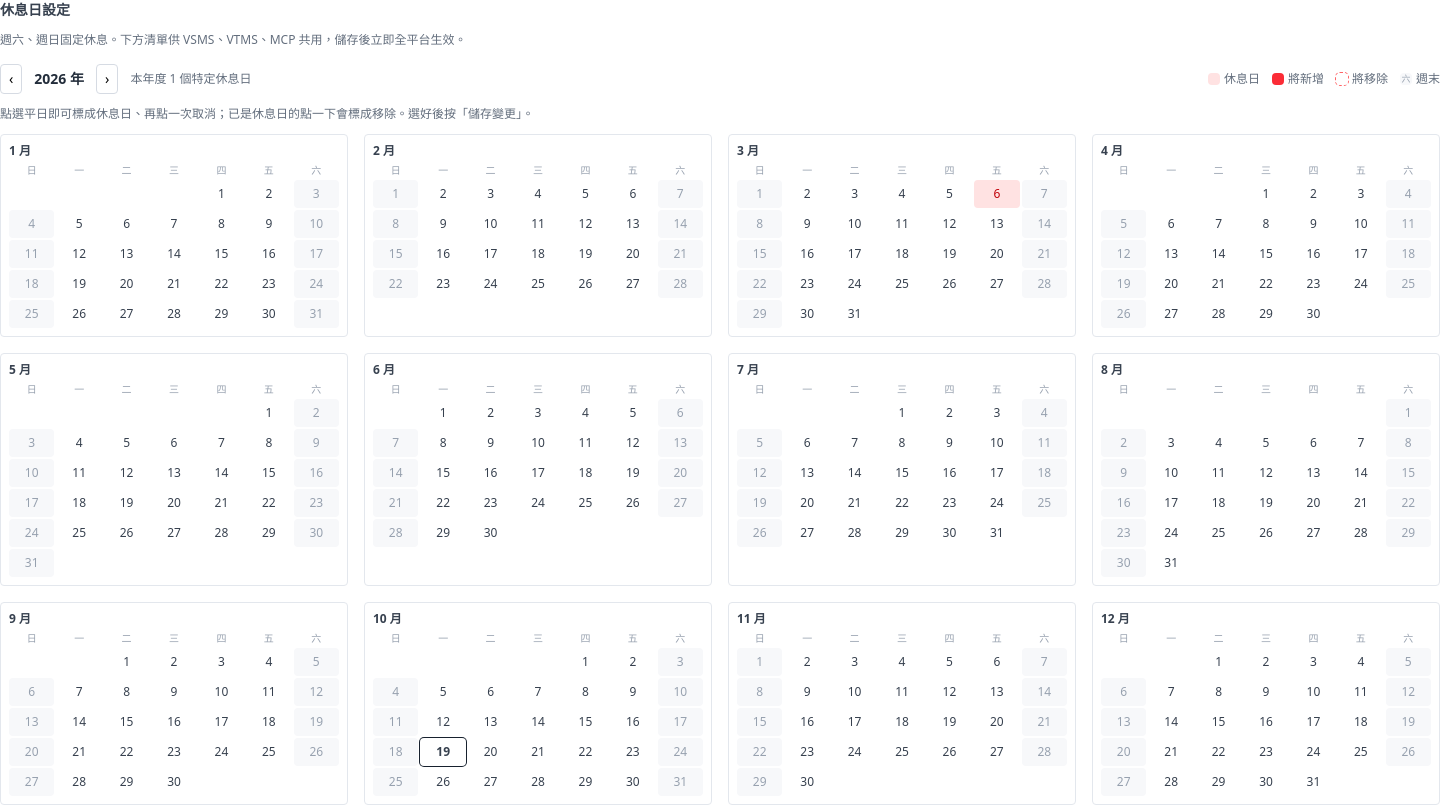
Test case: RestDaysManager 年度日曆 › 點兩個平日、取消一個已存在的休息日，一次送出 batch 並用回應更新清單
Click the 3rd button "1".
click(269, 413)  # box [246,399,292,427]
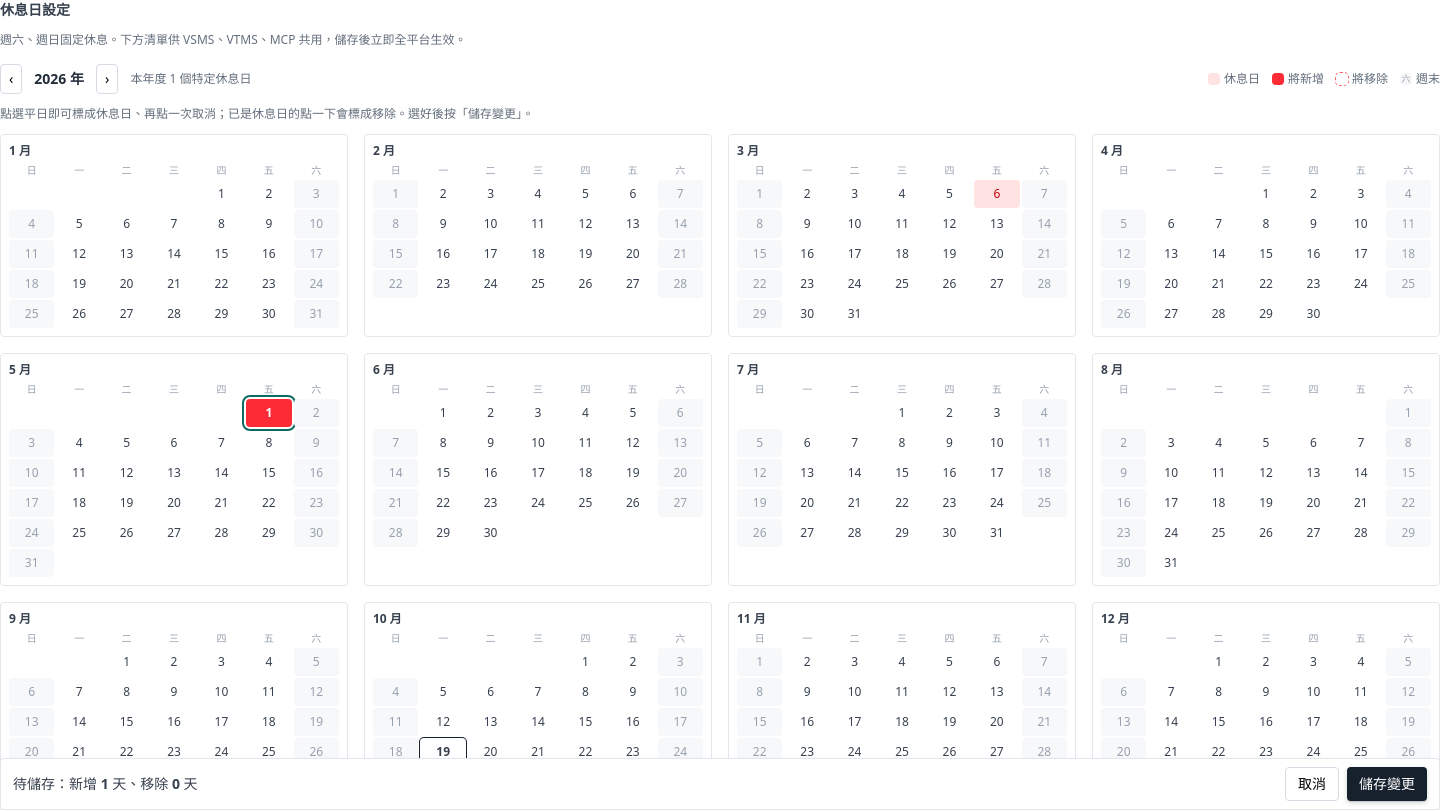
Click the 4th button "4".
click(79, 443)  # box [56,429,102,457]
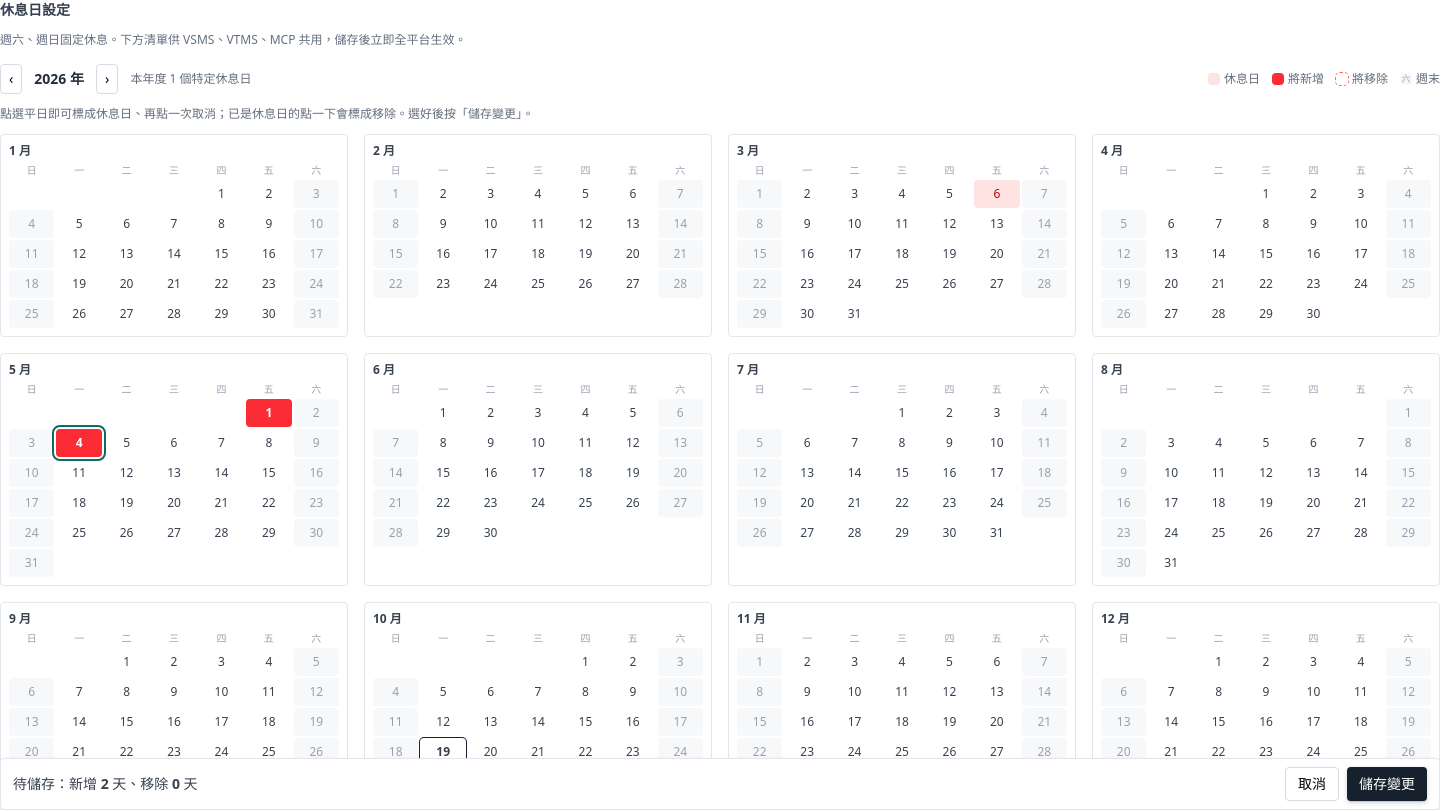
Click the 2nd button "6".
click(997, 194)  # box [974,180,1020,208]
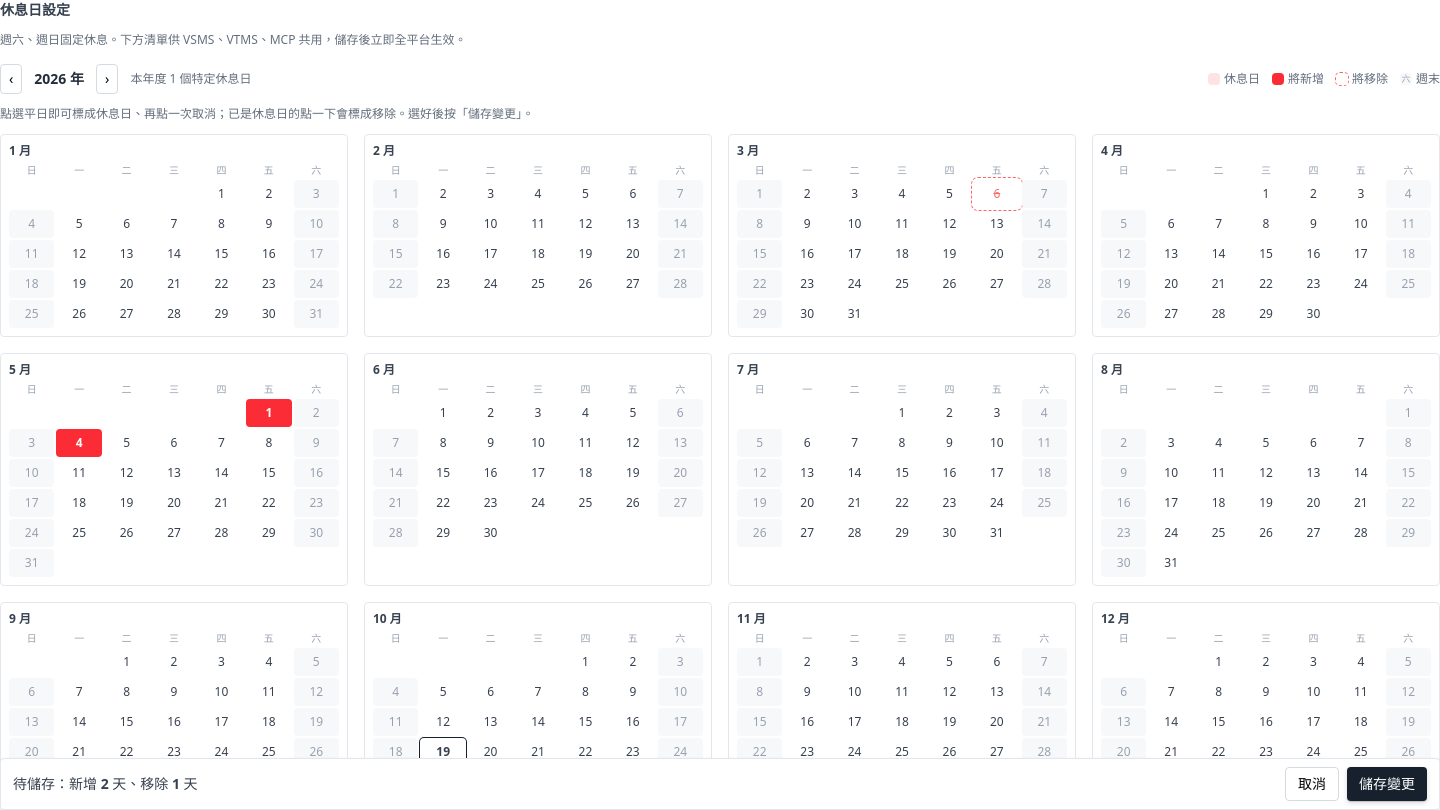
expect the text "待儲存：新增 2 天、移除 1 天" is shown: met, box [13,774,198,794]
Click the button "儲存變更".
click(1387, 784)  # box [1347,767,1427,801]
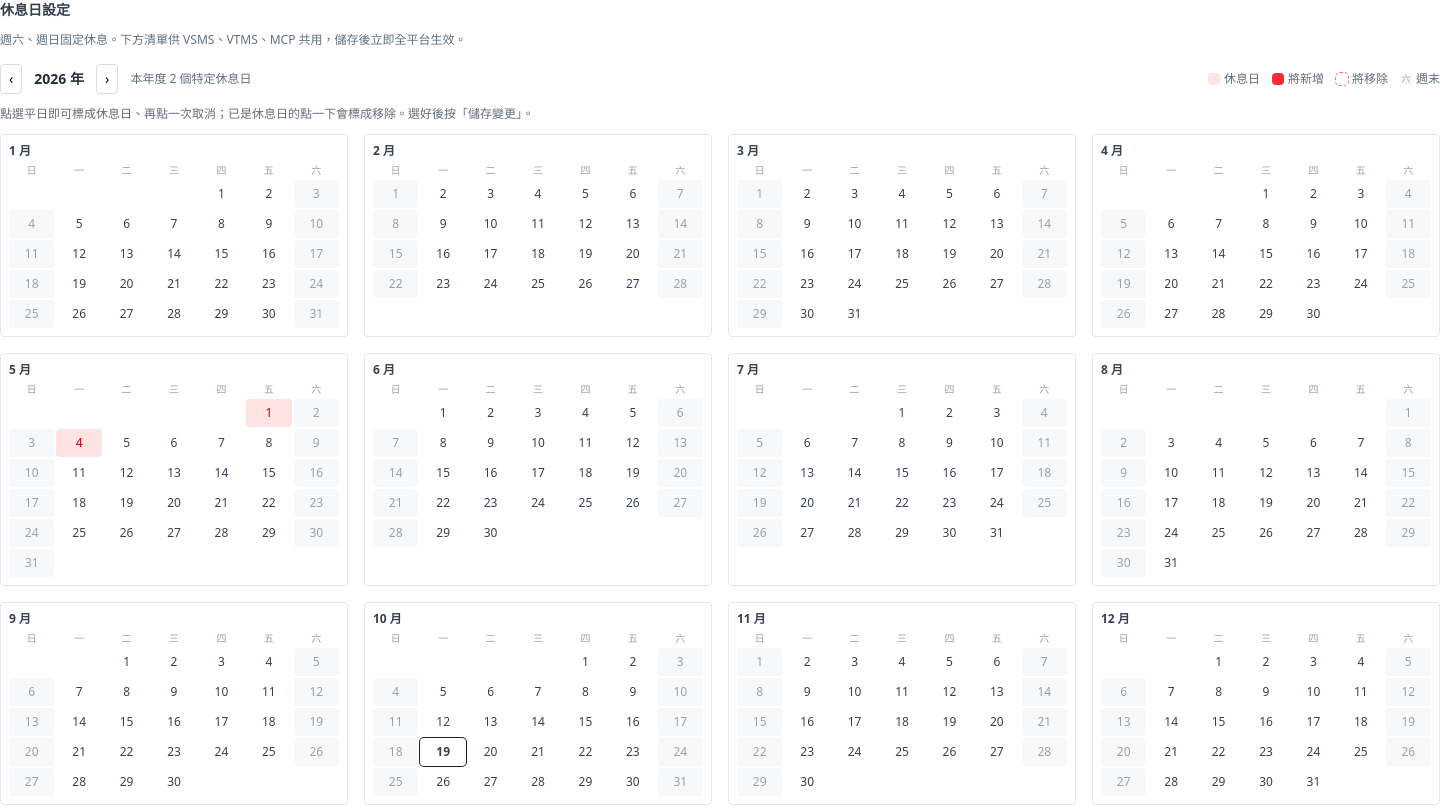
expect the text "待儲存" is gone: met
